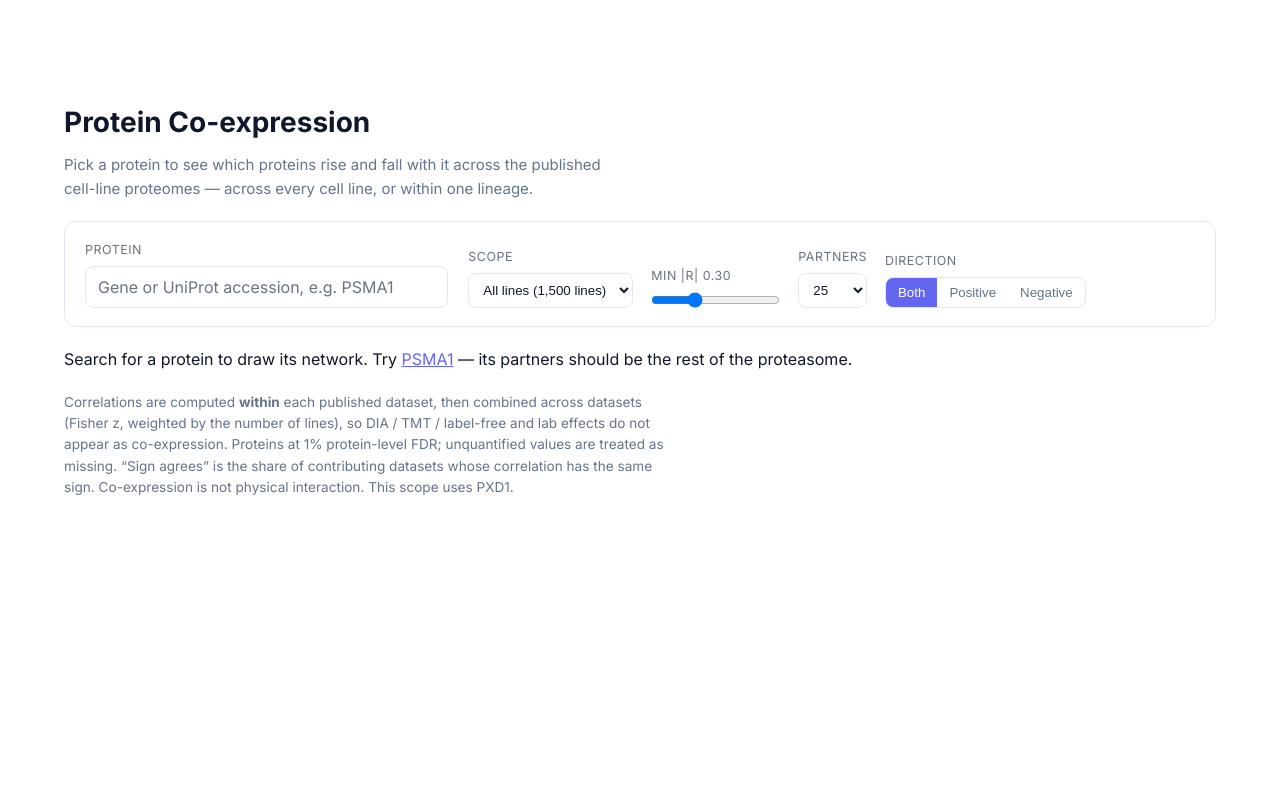
Scenario: Coexpression view › ignores a slow network that resolves after another protein was picked
Type "PSMA1" into the search field with id "coexp-search" at (267,287), box 85,266 -> 448,308
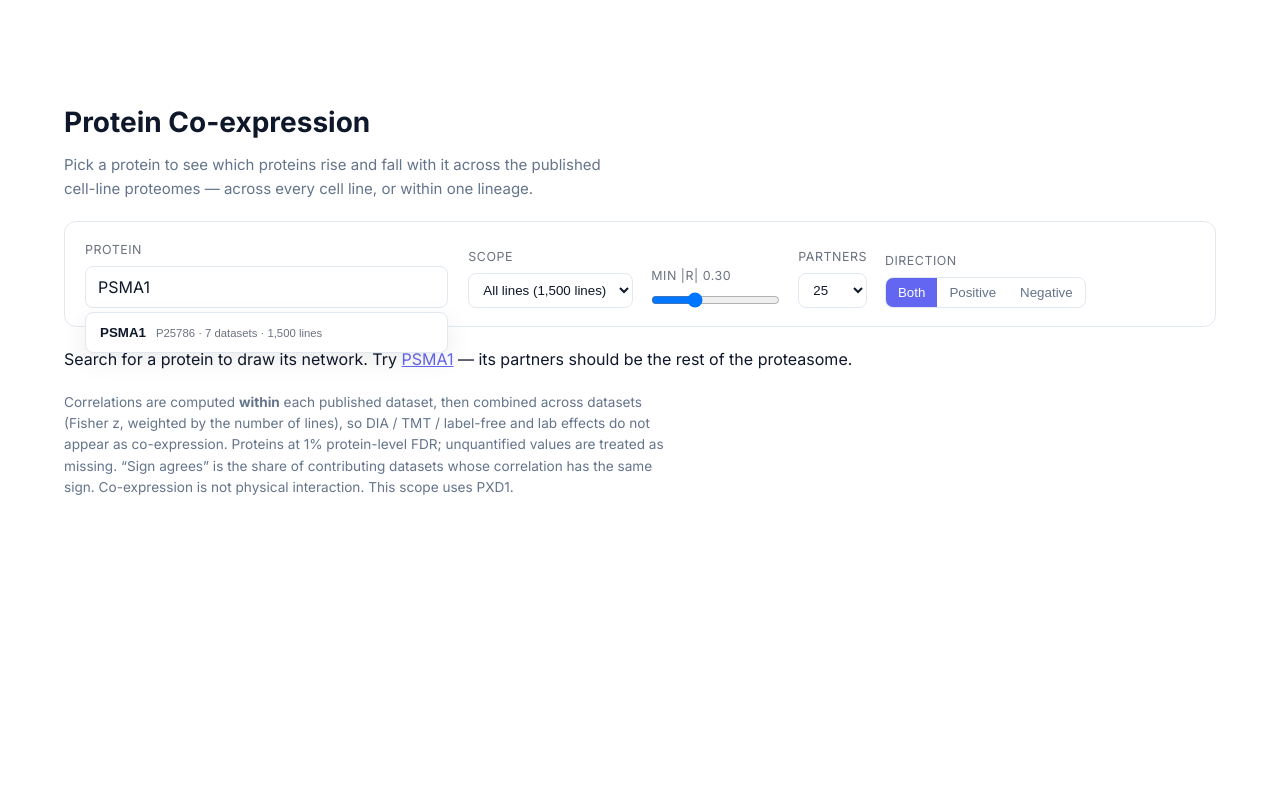
Press Enter in the search field with id "coexp-search", box 85,266 -> 448,308
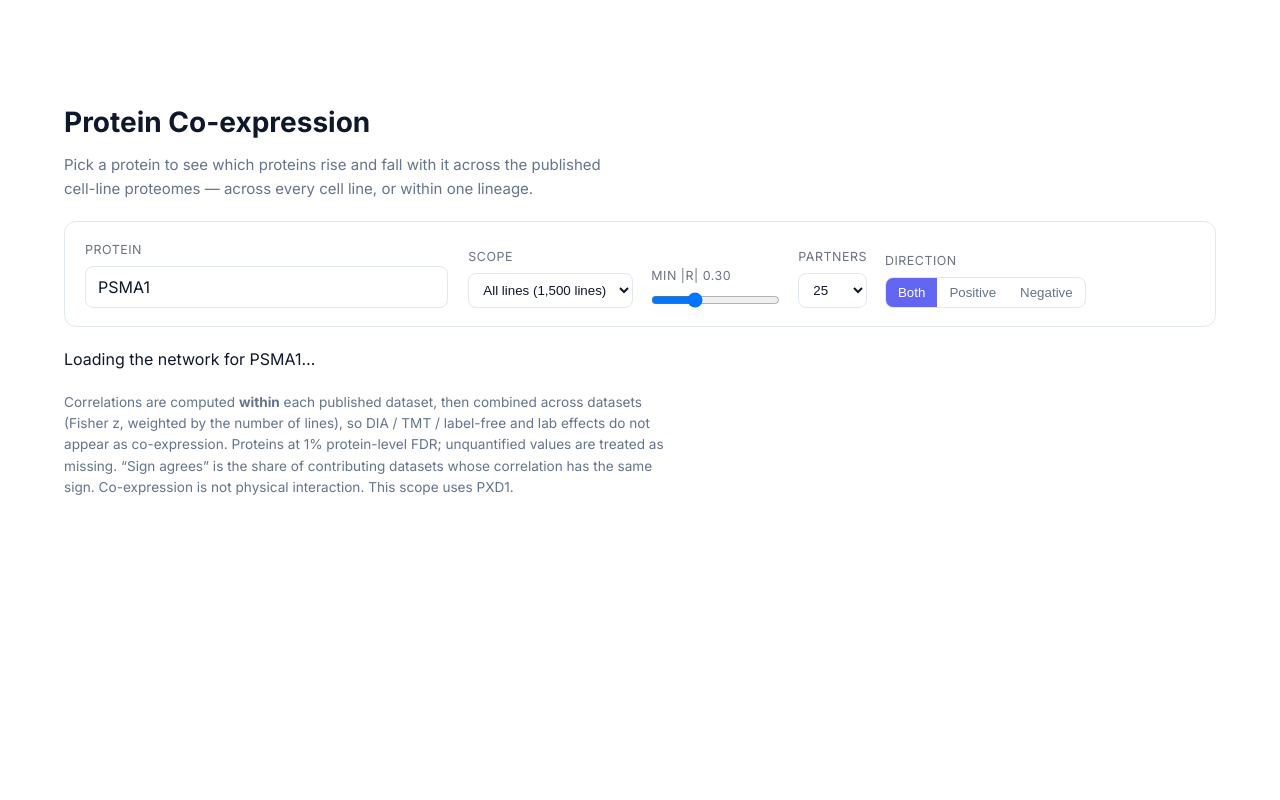
Replace the text in the search field with id "coexp-search" with "PSMA2" at (267,287), box 85,266 -> 448,308
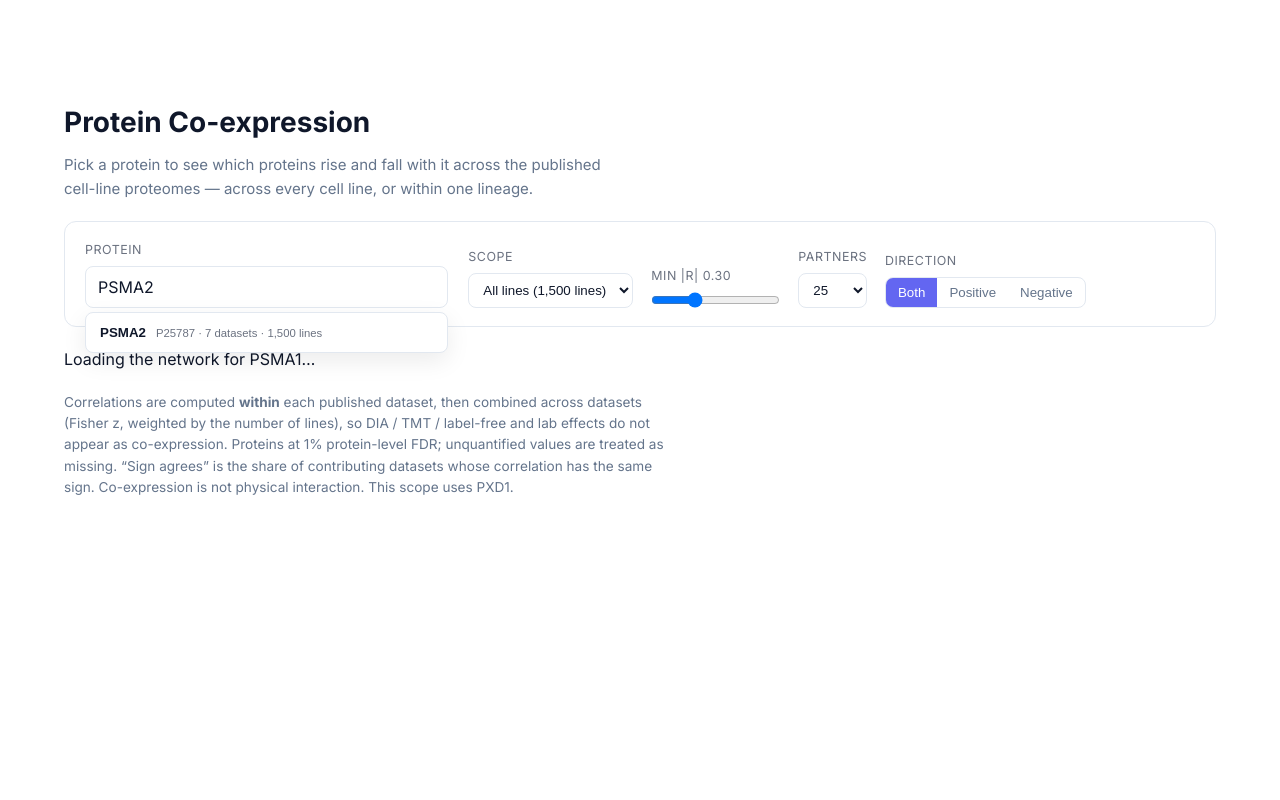
Press Enter in the search field with id "coexp-search", box 85,266 -> 448,308
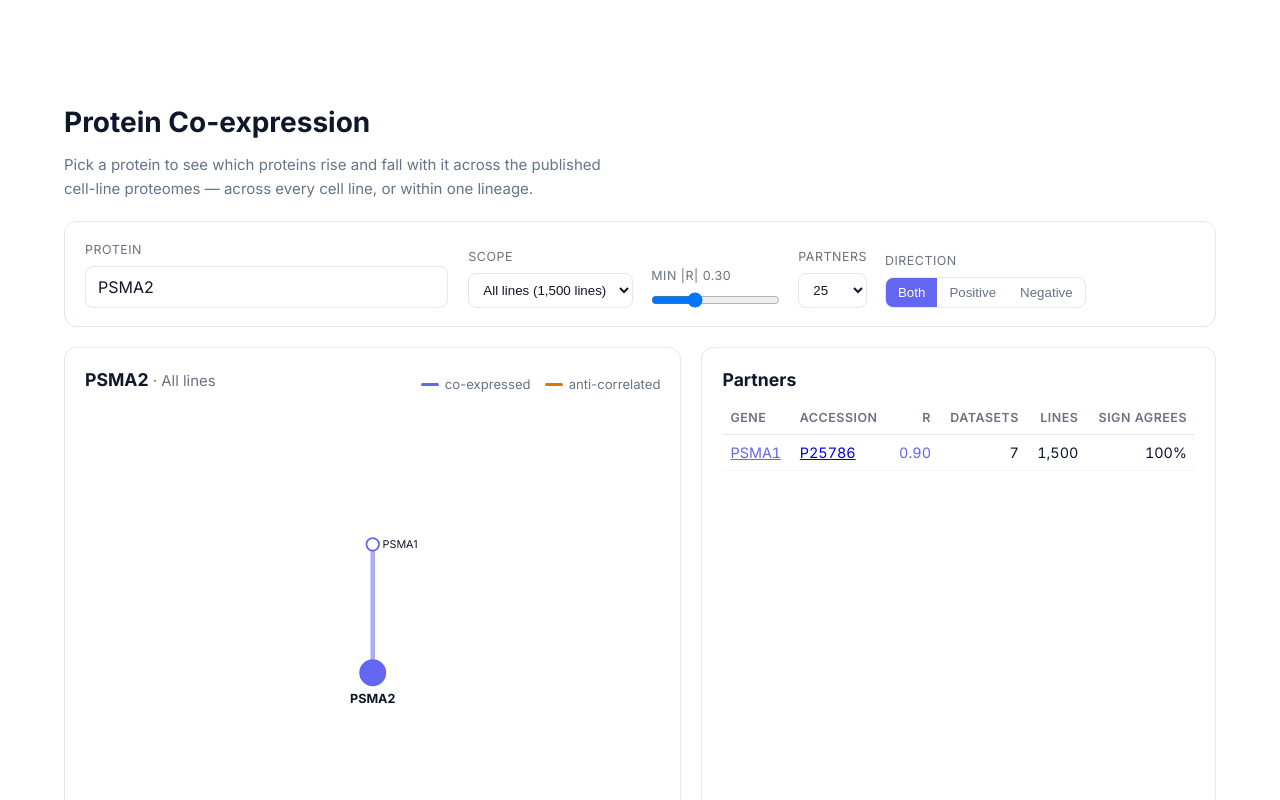
expect the heading "PSMA2 · All lines" is shown: met, box 85,366 -> 216,394
